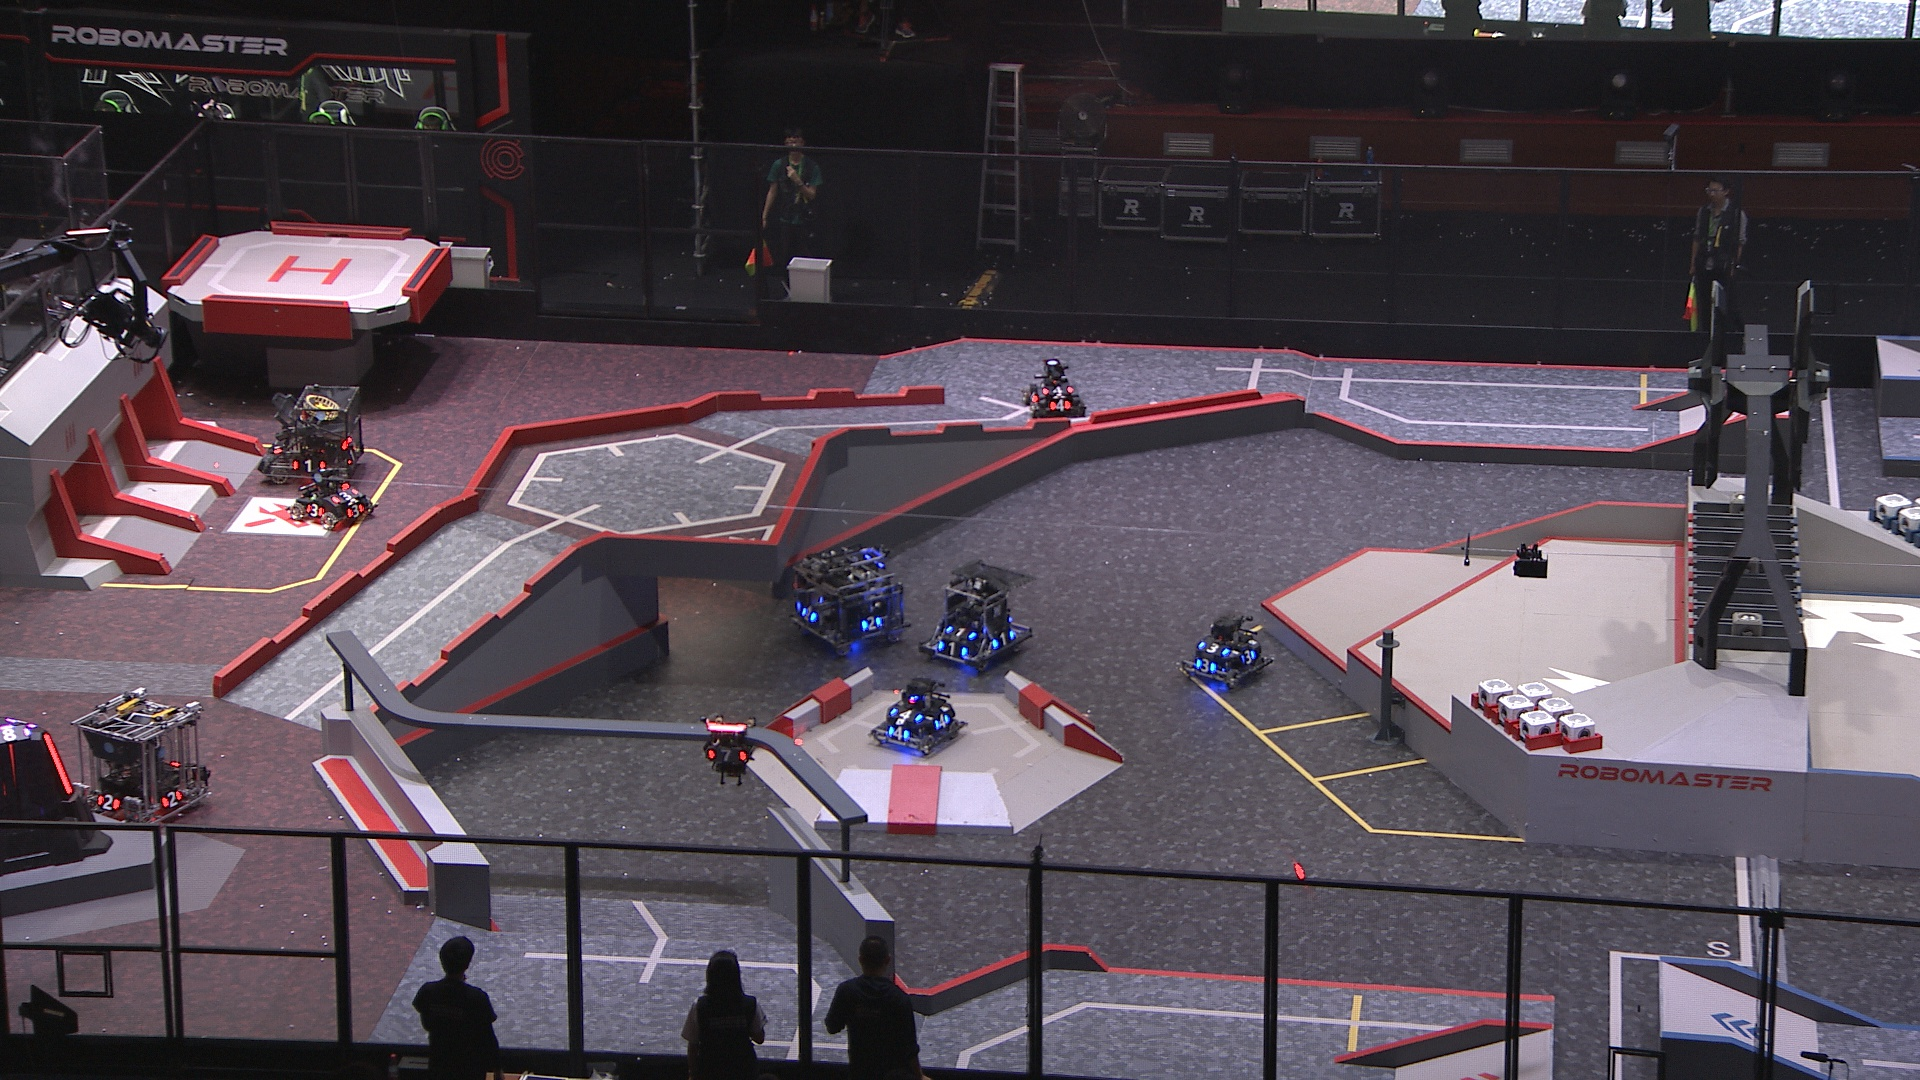armor: (41, 732, 74, 798), (703, 746, 749, 765), (94, 793, 124, 814), (294, 458, 327, 476), (1197, 640, 1230, 657), (891, 705, 923, 723), (936, 642, 968, 659), (989, 632, 1015, 651), (942, 624, 975, 640), (793, 603, 816, 622), (161, 790, 186, 808), (328, 488, 356, 504), (885, 727, 910, 742), (858, 613, 884, 629), (1193, 657, 1218, 673), (1040, 382, 1073, 394), (344, 502, 367, 520), (305, 501, 324, 520), (8, 741, 16, 785), (345, 443, 359, 465), (934, 713, 951, 731), (1238, 650, 1258, 665), (272, 436, 285, 456), (1048, 400, 1072, 410), (1027, 389, 1040, 407)
car: (74, 684, 216, 825), (787, 541, 909, 661), (916, 560, 1034, 669), (258, 384, 367, 485), (868, 678, 967, 754), (1182, 617, 1273, 688), (290, 469, 380, 531), (1021, 353, 1091, 427)
ignore: (0, 723, 30, 744)
watcher: (699, 713, 760, 785)
